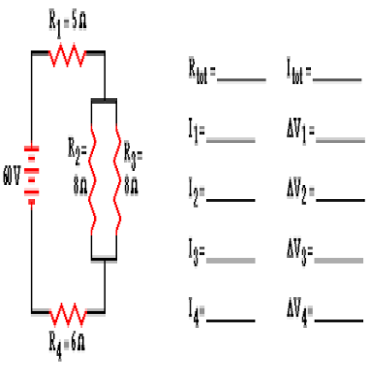Resistor: (111, 121, 145, 234), (67, 125, 100, 235), (47, 6, 88, 70), (46, 302, 90, 360)
Voltage Source: (3, 143, 47, 213)
